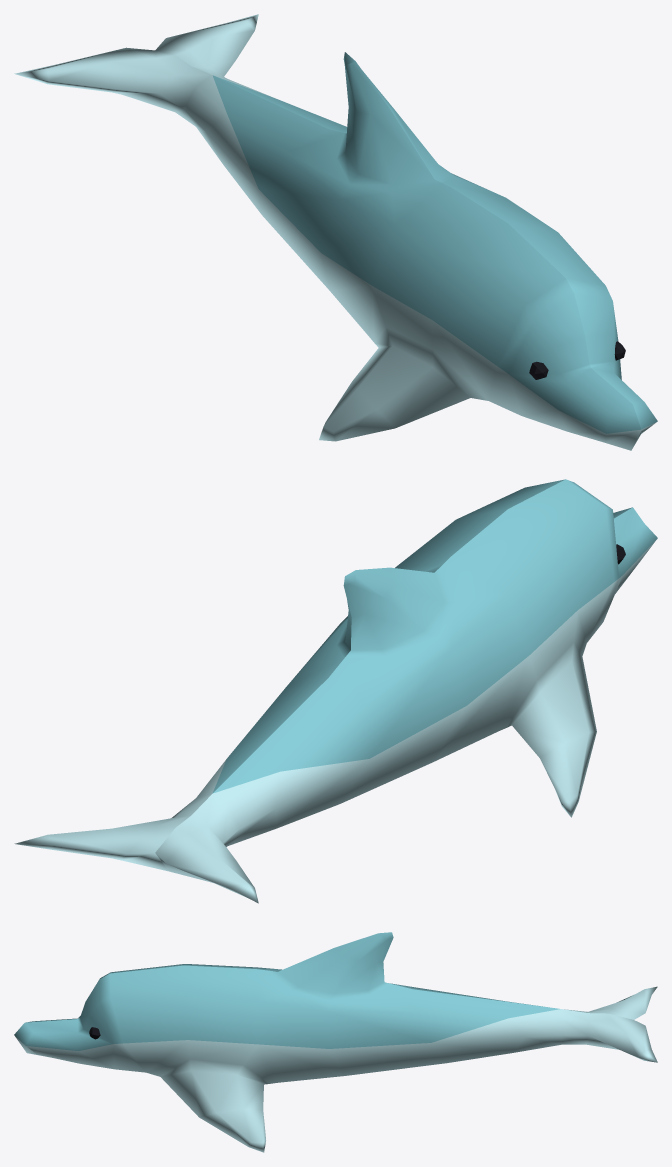
File: model_dolphin_01.fbx
The picture shows the model from 3 angles, top to bottom: view 1: azimuth 30°, elevation 25°; view 2: azimuth 150°, elevation 25°; view 3: azimuth 270°, elevation 25°; orthographic projection. The views are drawn at different scales.
Visible parts, largest first — view 1: dolphin_geo; view 2: dolphin_geo; view 3: dolphin_geo.
Part boxes in pixels (<box>): dolphin_geo: <box>14,14,657,450</box>; dolphin_geo: <box>14,479,657,903</box>; dolphin_geo: <box>14,932,657,1152</box>.
Bounding box in the file's own units: 10.9 × 11.72 × 37.73.
